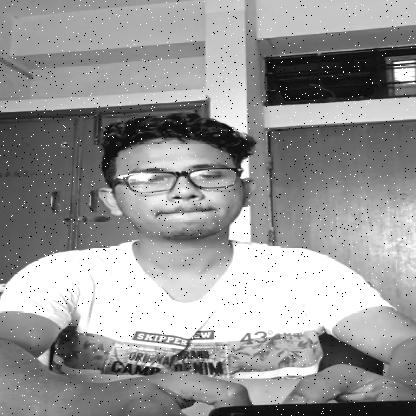Normal: (106, 129, 260, 236)
